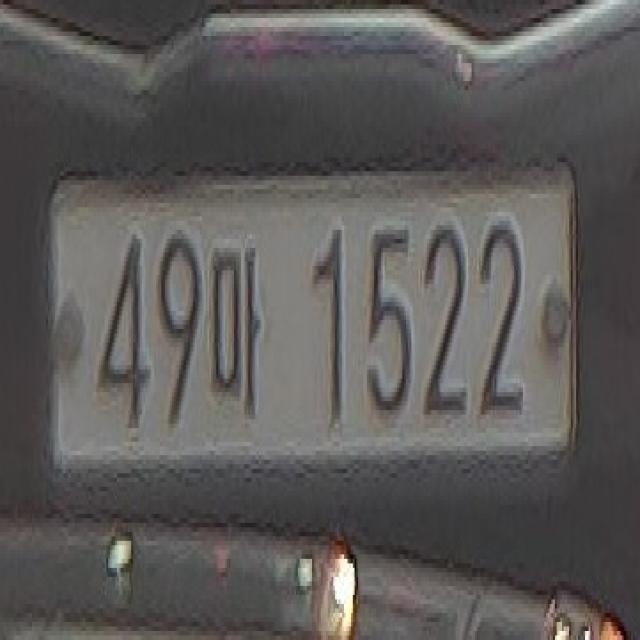1: (310, 214, 352, 426)
2: (478, 212, 542, 434), (419, 205, 474, 438)
4: (99, 215, 151, 450)
5: (362, 212, 414, 429)
9: (39, 151, 576, 472), (154, 222, 202, 434)
ma: (211, 222, 274, 436)
